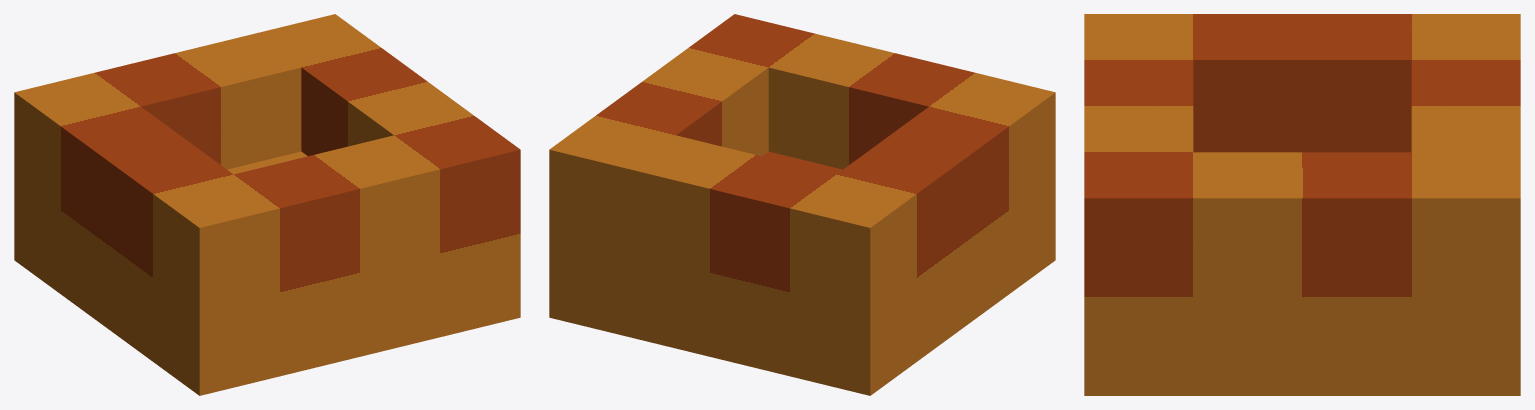
File: floor1.fbx
The picture shows the model from 3 angles, left to right: view 1: azimuth 30°, elevation 25°; view 2: azimuth 150°, elevation 25°; view 3: azimuth 270°, elevation 25°; orthographic projection. The views are drawn at different scales.
Visible parts, largest first — view 1: floor1.layer; view 2: floor1.layer; view 3: floor1.layer.
Part boxes in pixels (<box>): floor1.layer: <box>14,14,520,395</box>; floor1.layer: <box>549,14,1055,395</box>; floor1.layer: <box>1084,14,1520,395</box>.
Bounding box in the file's own units: 40 × 40 × 20.
1 material, 1 textured.
